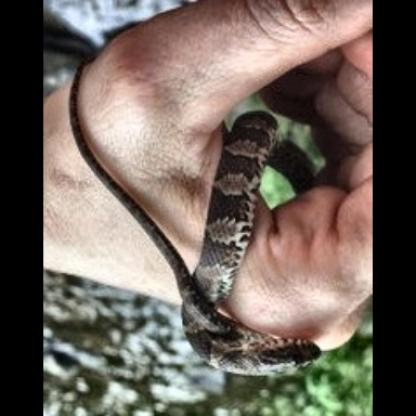Snake: (53, 21, 370, 393)
